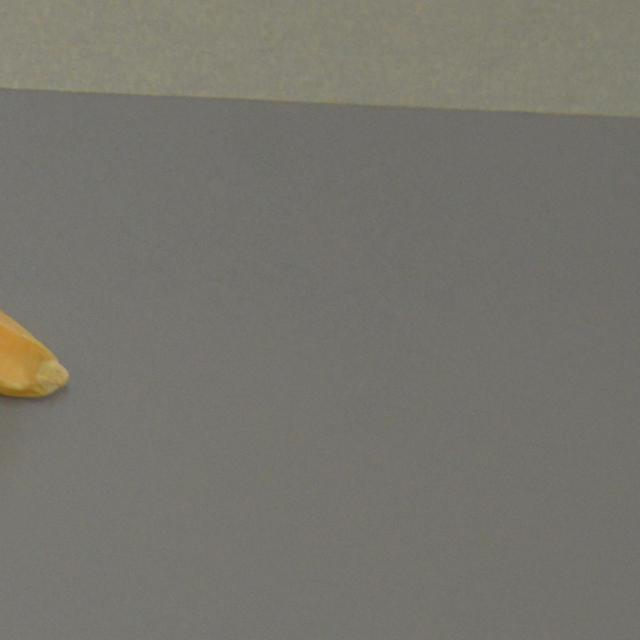entero: (0, 299, 72, 404)
